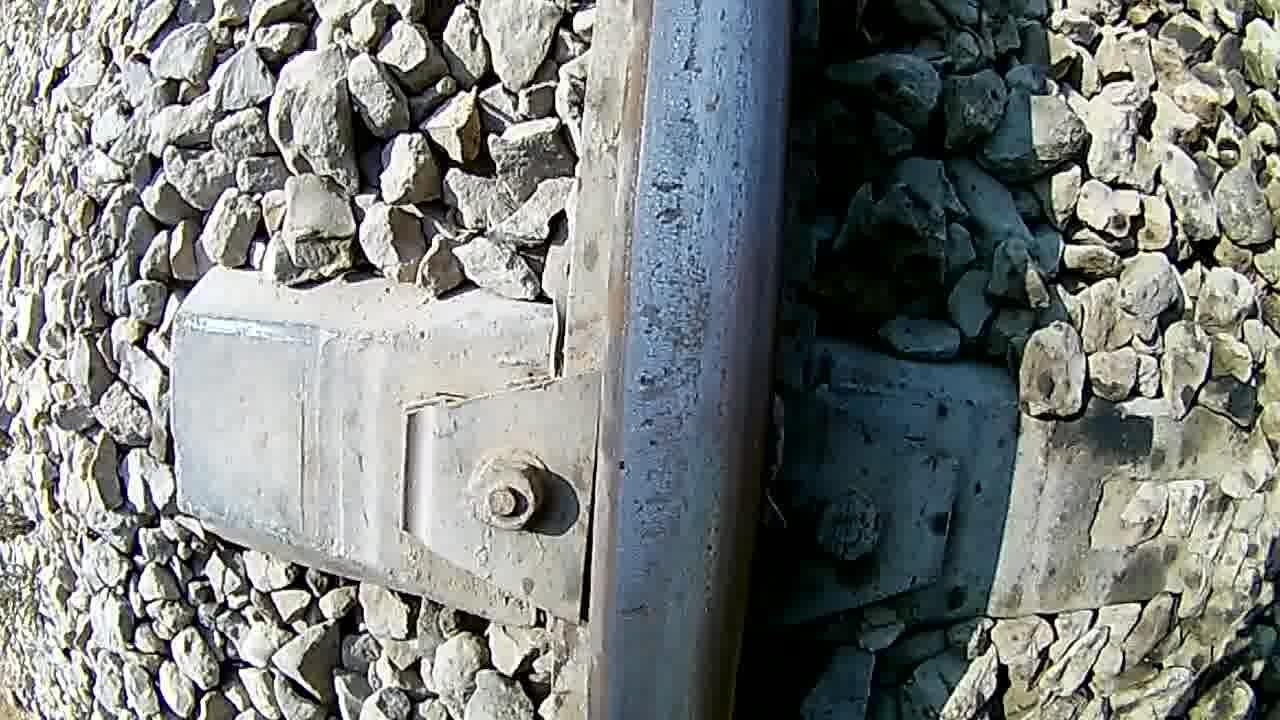crack: (594, 0, 787, 720)
